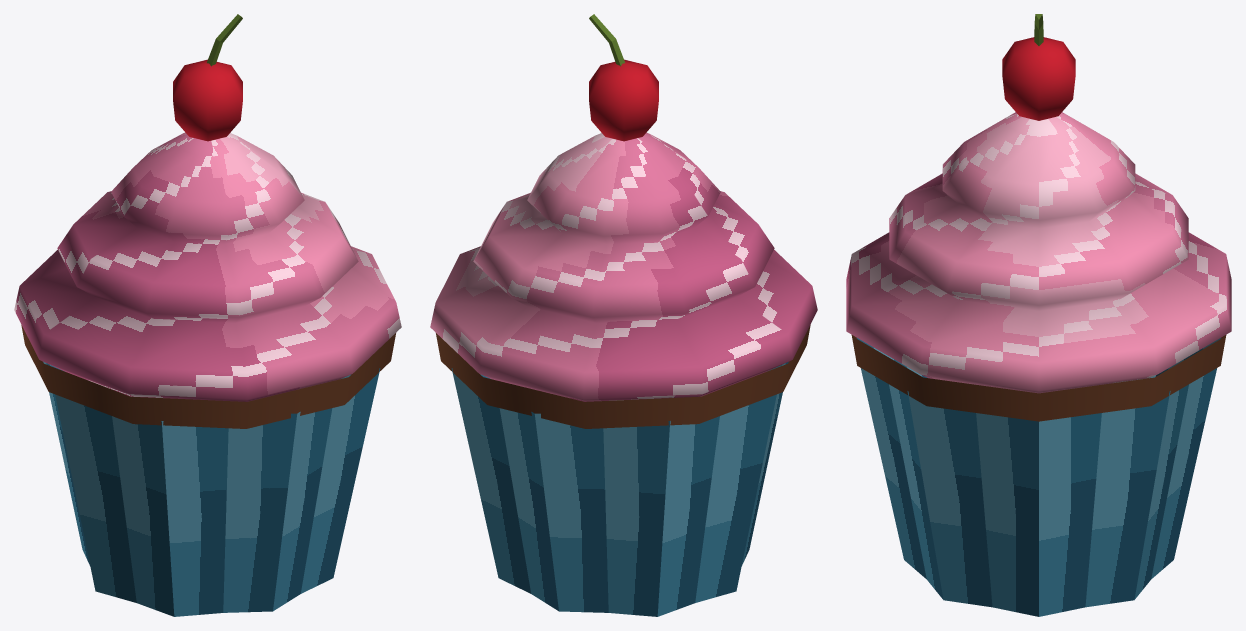
The model's file is meals-cupcake.glb.
3 renders of one model, left to right at view 1: azimuth 30°, elevation 25°; view 2: azimuth 150°, elevation 25°; view 3: azimuth 270°, elevation 25°, orthographic. The views are drawn at different scales.
Visible parts, largest first — view 1: meals.cupcake; view 2: meals.cupcake; view 3: meals.cupcake.
Part boxes in pixels (left/top/right/bottom): meals.cupcake: left=14, top=14, right=401, bottom=616; meals.cupcake: left=430, top=14, right=817, bottom=616; meals.cupcake: left=846, top=14, right=1231, bottom=616.
Bounding box in the file's own units: 1.2 × 1.83 × 1.14.
5 materials, 2 textured.
